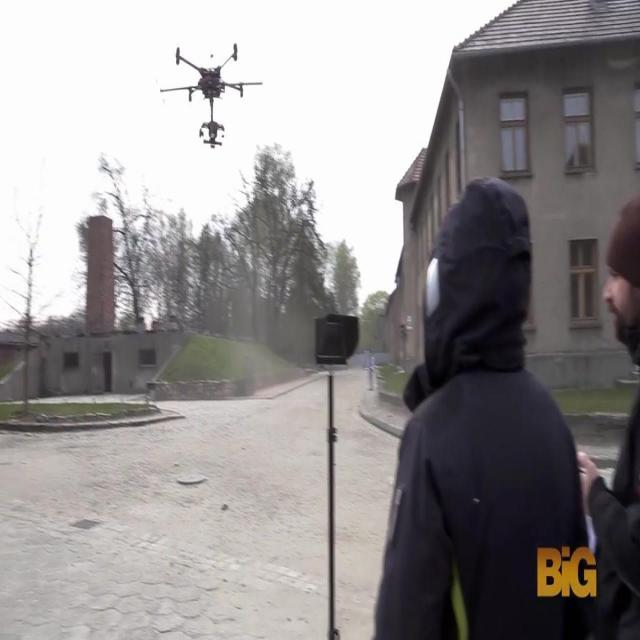UAV: (174, 44, 246, 150)
